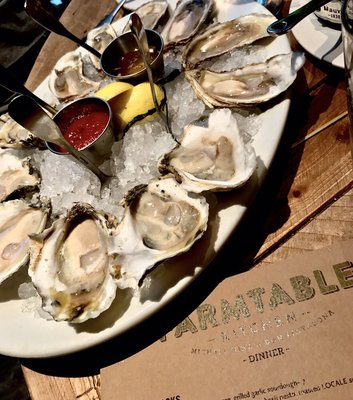sandwich: (0, 1, 352, 383)
